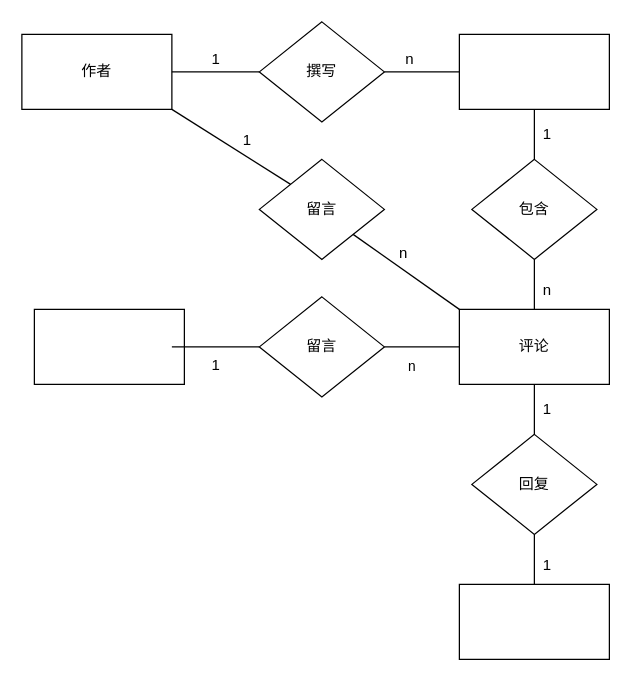
Some shapes in this 631 by 681 pixel diagram are drawn without their labels. Here are the shapes that lost their labels. From the top down, the centre of each, then its label:
point (533, 71): 文章
point (108, 346): 访客
point (533, 621): 父评论（如有）
